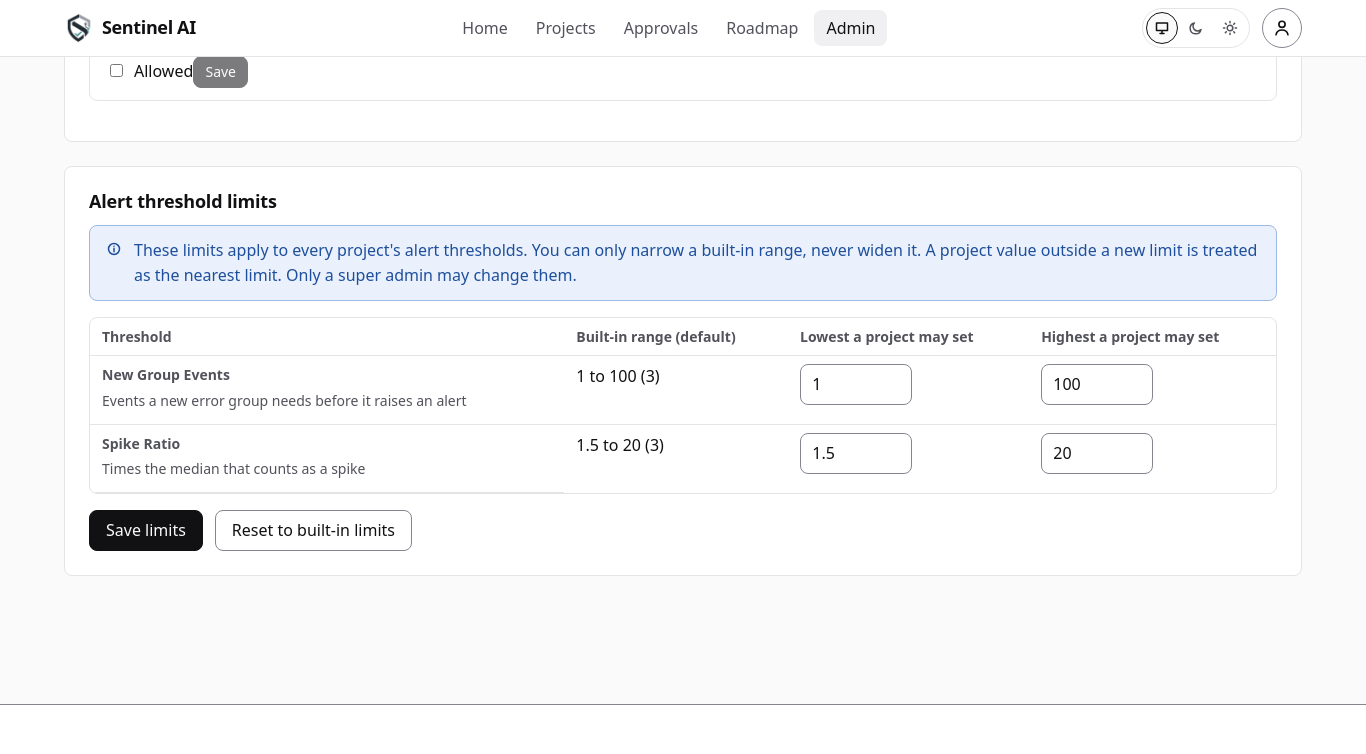
organization alert threshold limits (admin page) › refuses numbers that are reversed or outside the built-in range before sending anything
(page scrolled)
Step 1. Replace the text in the number field named "Lowest new group events" with "0" → (856, 385), box [800,364,912,405]
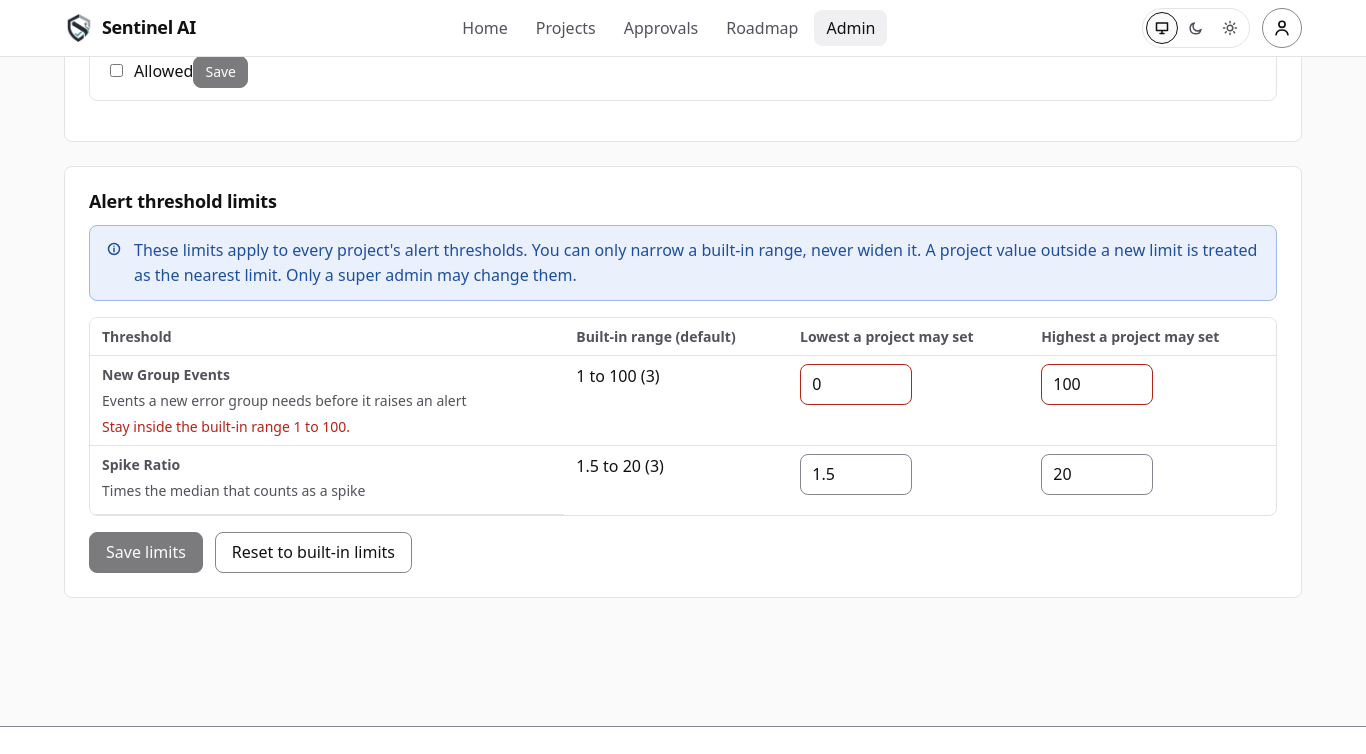
Expected: the text "Stay inside the built-in range 1 to 100." is shown, [102,417,350,436]
Expected: the button "Save limits" is disabled, [89,532,203,573]
Step 2. Replace the text in the number field named "Lowest new group events" with "50" → (856, 385), box [800,364,912,405]
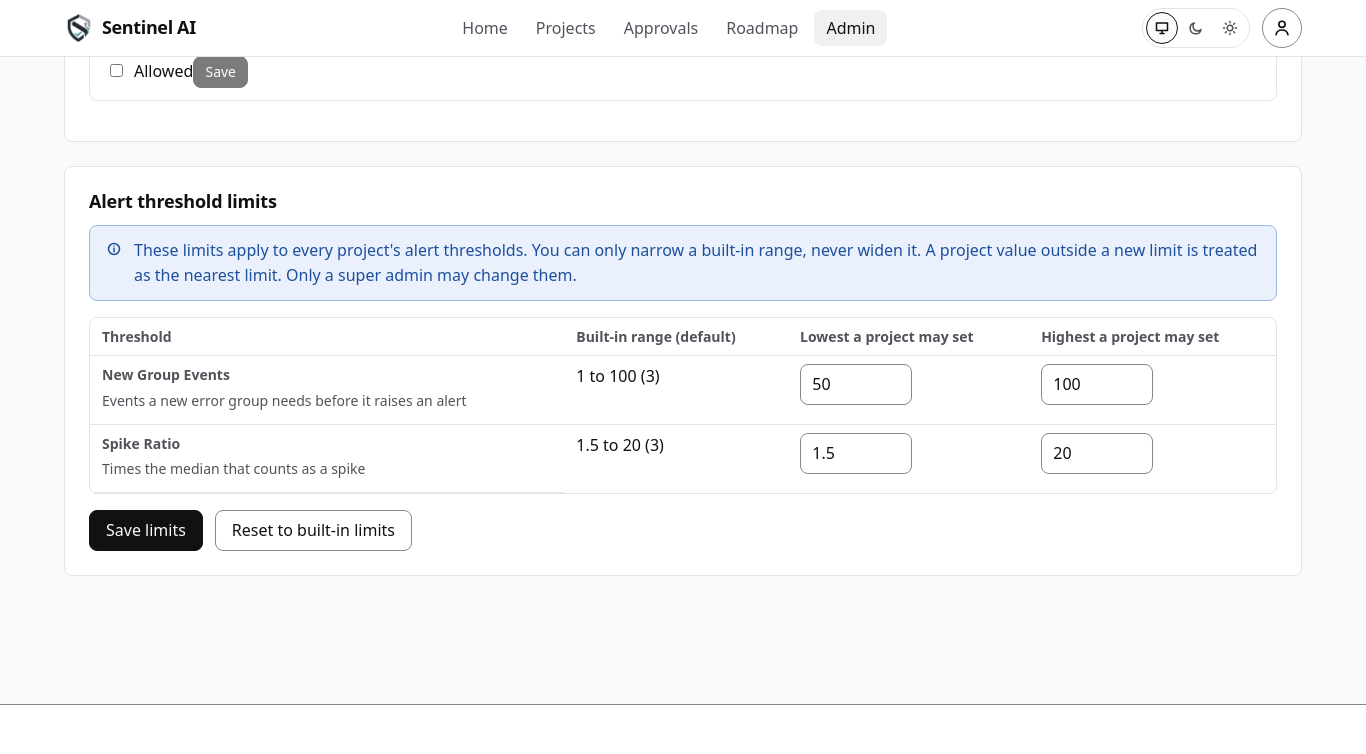
Step 3. Replace the text in the number field named "Highest new group events" with "5" → (1097, 385), box [1041,364,1153,405]
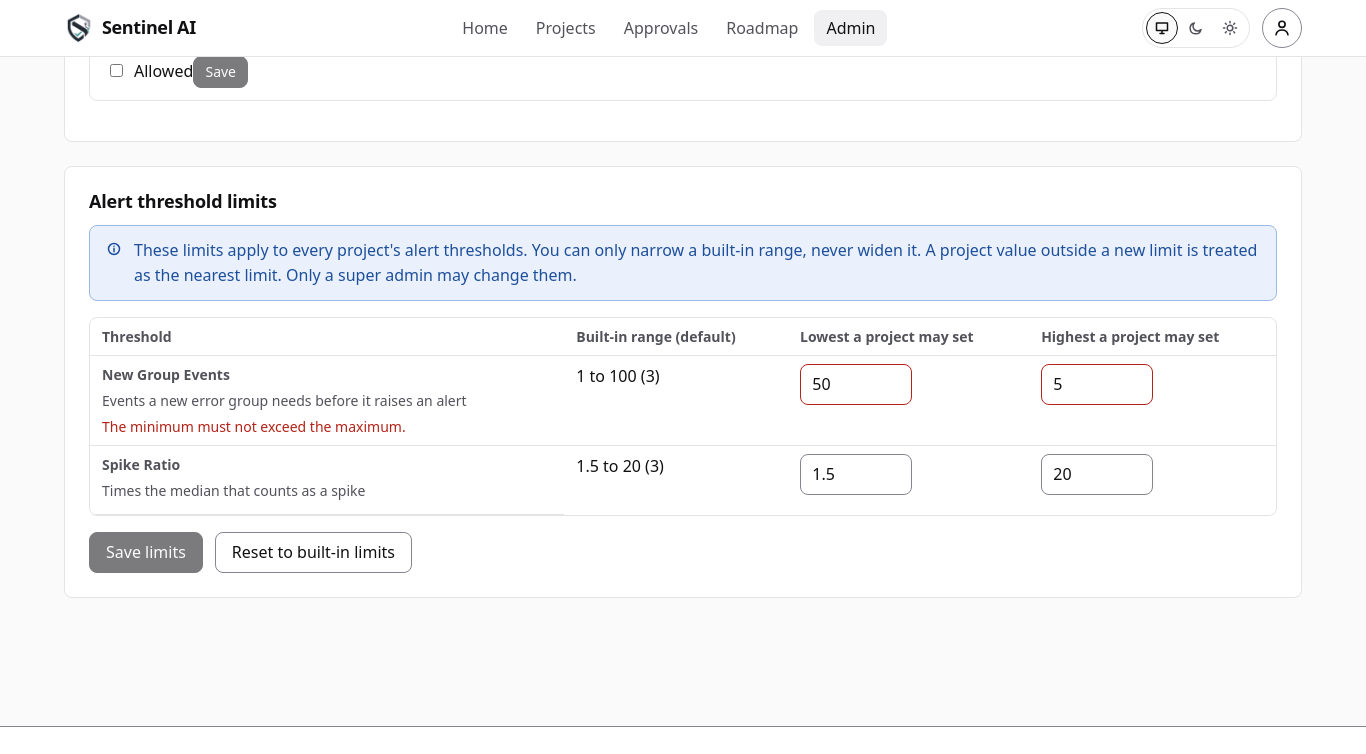
Expected: the text "The minimum must not exceed the maximum." is shown, [102,417,406,436]
Step 4. Clear the number field named "Highest new group events" → (1097, 385), box [1041,364,1153,405]
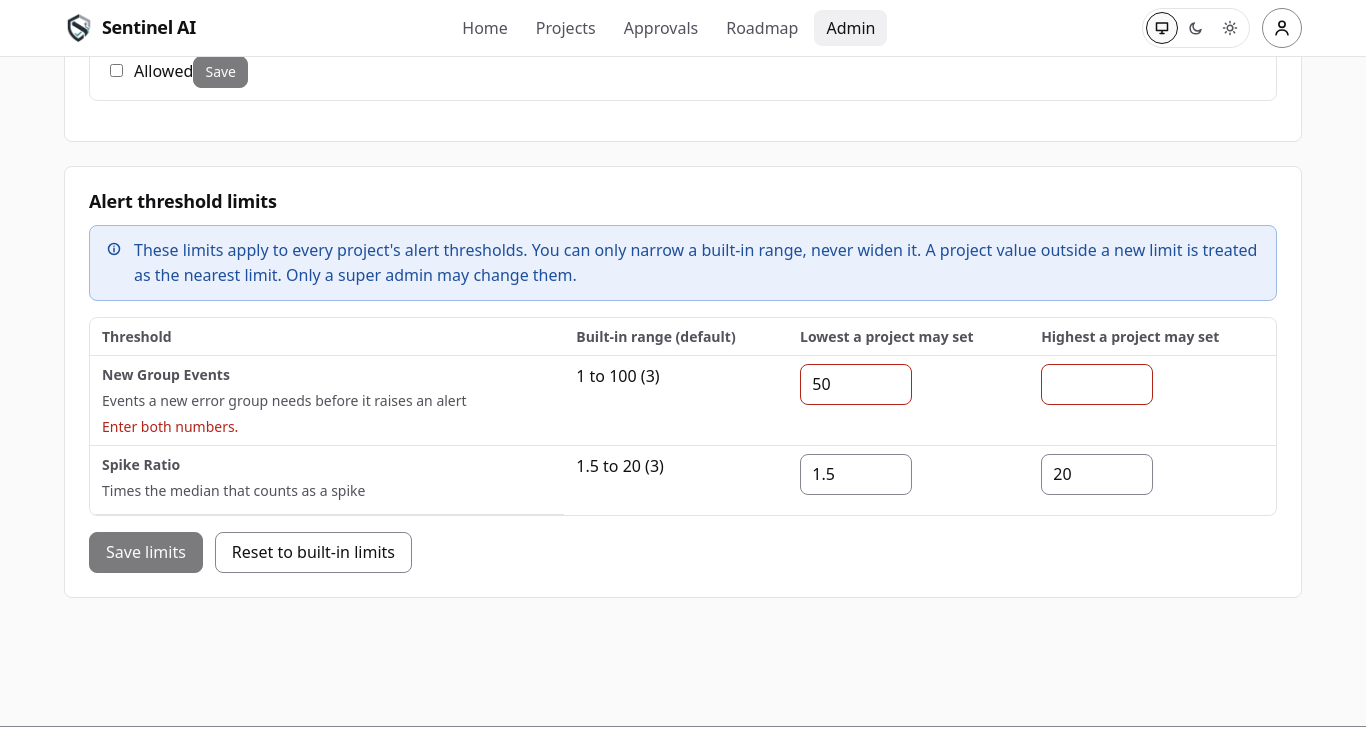
Expected: the text "Enter both numbers." is shown, [102,417,238,436]
